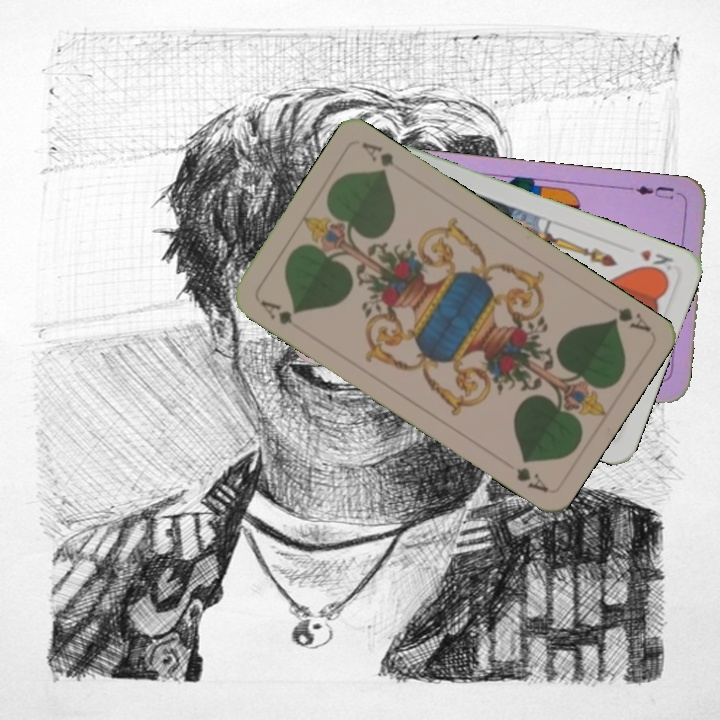EU: (625, 182, 677, 202)
GA: (607, 303, 654, 334), (256, 296, 300, 328)
HK: (635, 245, 676, 278)
